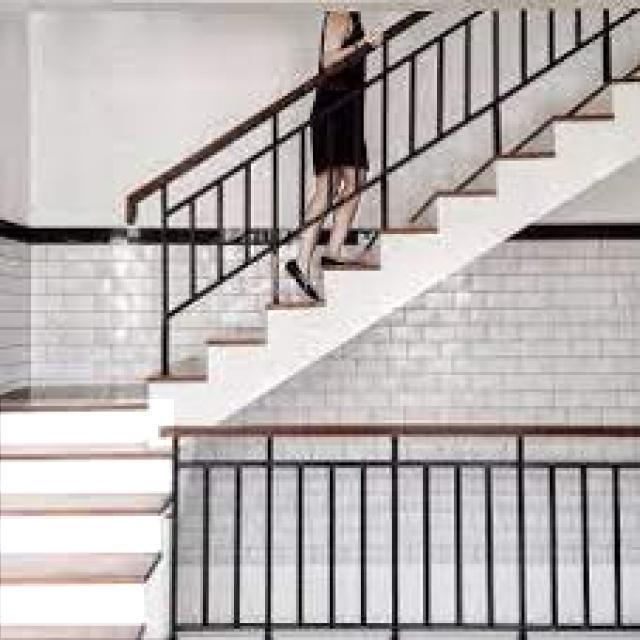stair: (1, 399, 174, 638)
